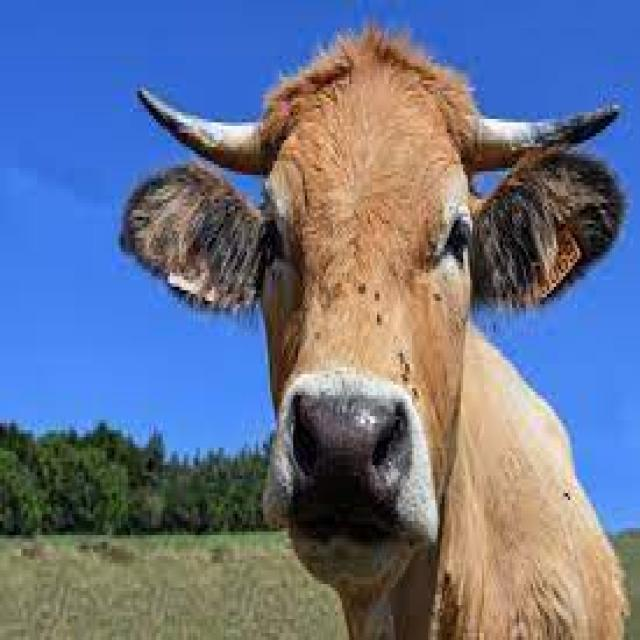cowFace: (96, 32, 622, 584)
